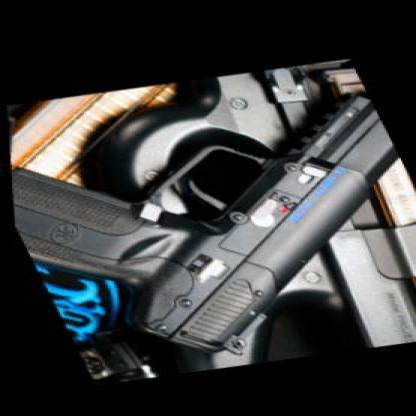pistol: (3, 60, 413, 395)
